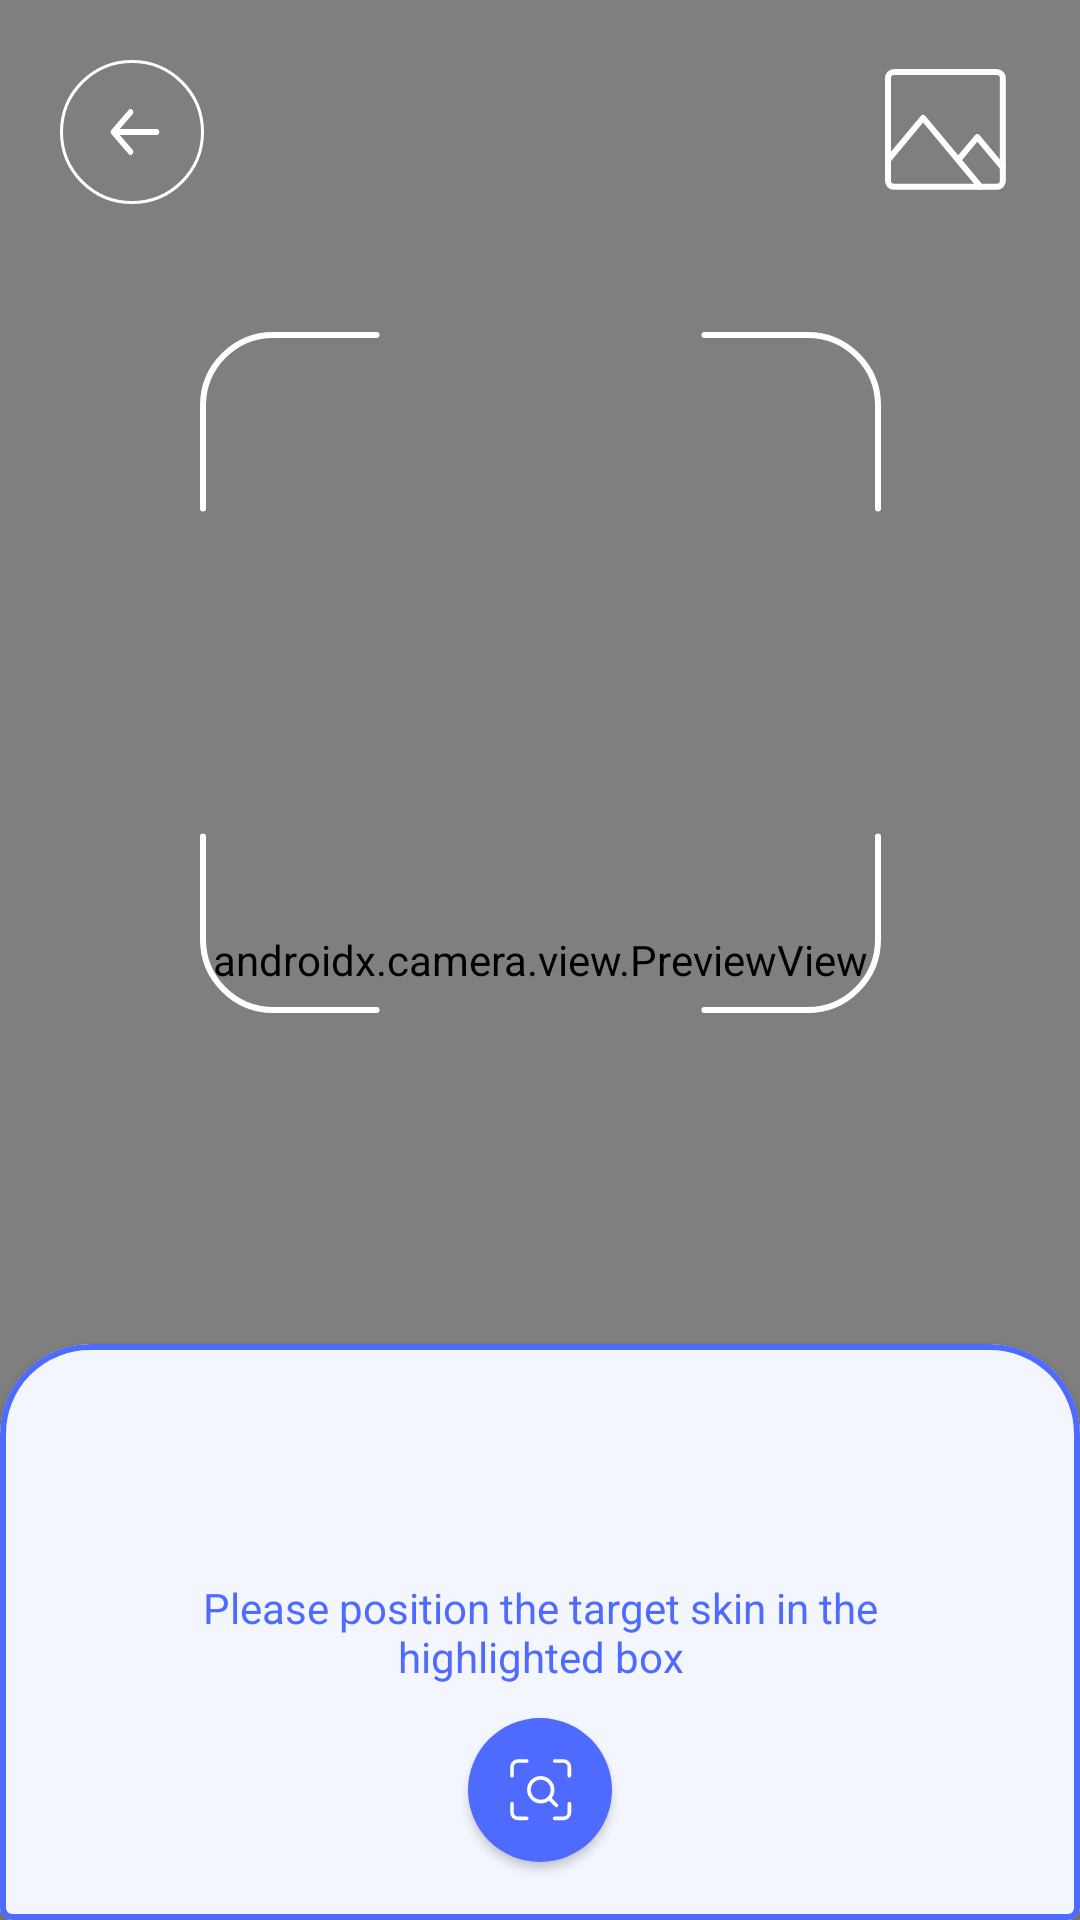

Icon click points for this 1080w x 1920h phone screenshot, format (x,y):
gallery: (945,129)
left: (132,132)
scan: (540,1790)
